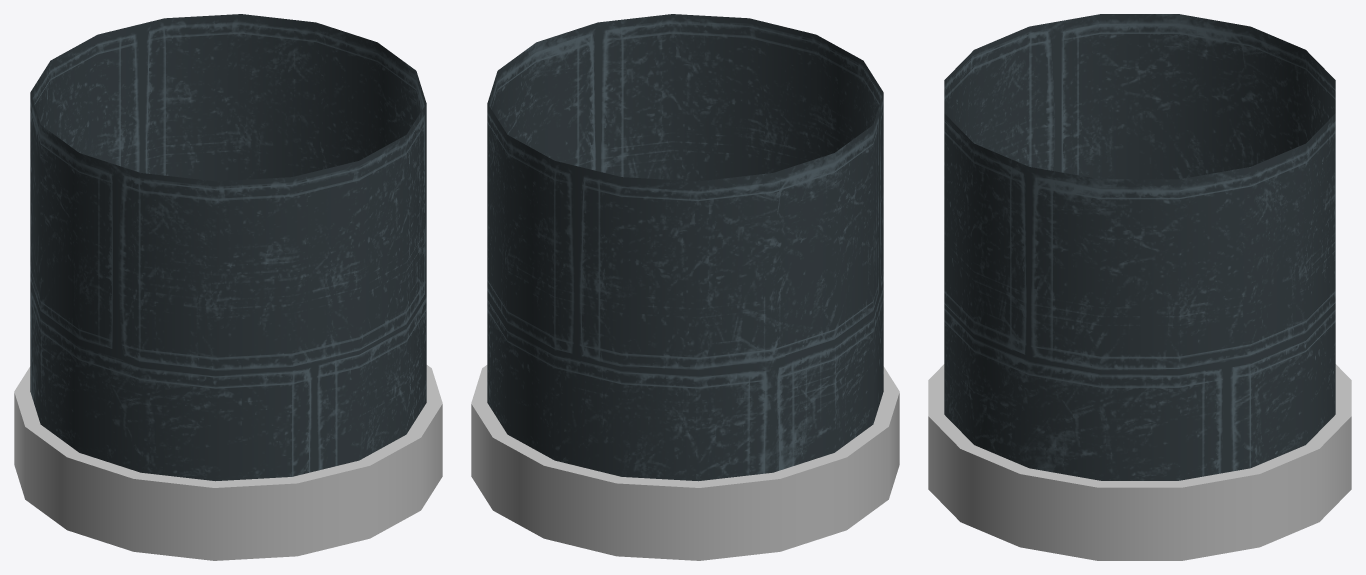
File: towerPeaceReg.fbx
The picture shows the model from 3 angles, left to right: view 1: azimuth 30°, elevation 25°; view 2: azimuth 150°, elevation 25°; view 3: azimuth 270°, elevation 25°; orthographic projection.
Visible parts, largest first — view 1: Cylinder.001; view 2: Cylinder.001; view 3: Cylinder.001.
Boxes of the visible parts, x1,y1,x2,y2 form: Cylinder.001: (14,14,442,560); Cylinder.001: (471,14,899,560); Cylinder.001: (928,14,1351,560).
Bounding box in the file's own units: 482 × 471 × 482.
